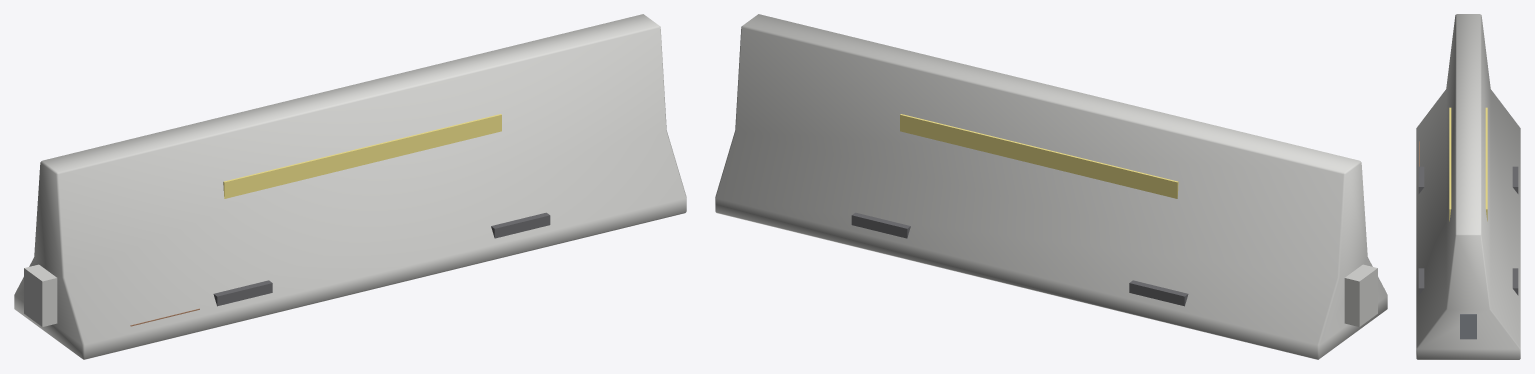
The model's file is Barrier_Jersey.fbx.
3 renders of one model, left to right at view 1: azimuth 30°, elevation 25°; view 2: azimuth 150°, elevation 25°; view 3: azimuth 270°, elevation 25°, orthographic. The views are drawn at different scales.
Visible parts, largest first — view 1: LOD0; view 2: LOD0; view 3: LOD0.
Part boxes in pixels (box(x1,y1,x2,y2)): LOD0: box(14, 14, 686, 359); LOD0: box(715, 14, 1387, 359); LOD0: box(1416, 14, 1520, 359).
Size of what is drawn, in the model's own units: 313 by 81.3 by 61.
